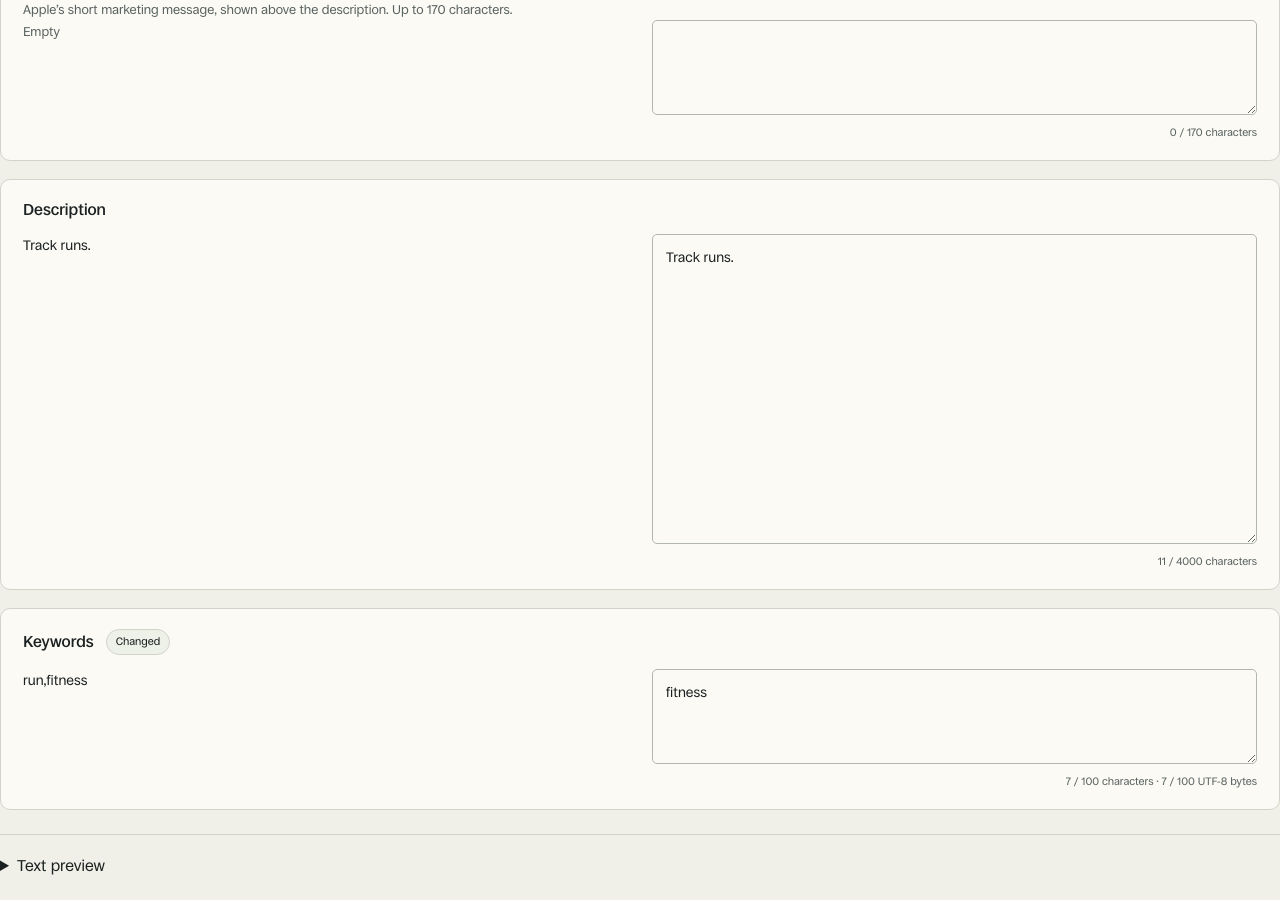
Scenario: keeps text and blocks navigation on a conflict until the user reloads
(page scrolled)
Replace the text in the text box named "Draft Keywords" with "my text": (954, 717) [652,669,1257,764]
Wait 700 ms
(page scrolled)
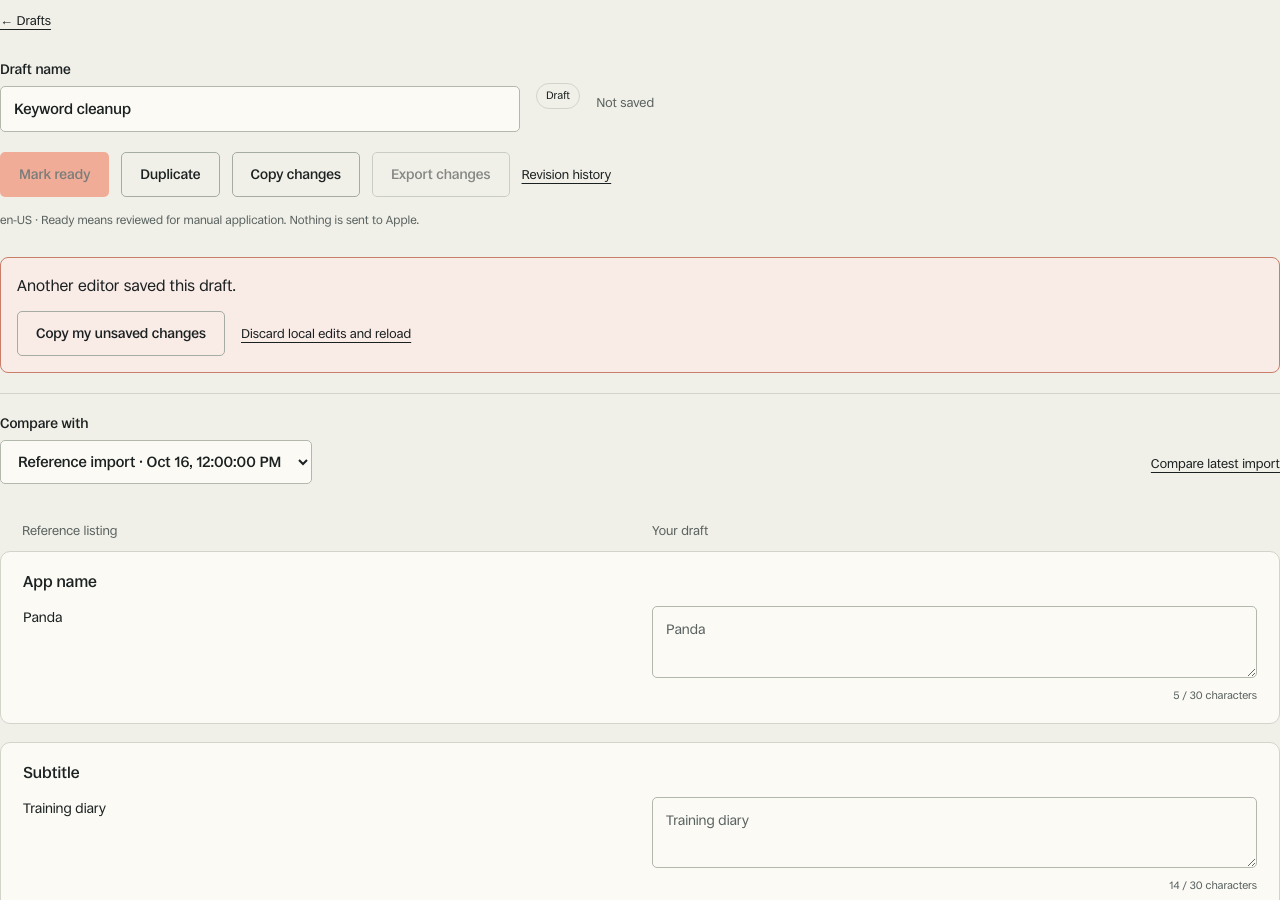
Check: the message that starts with "Another editor saved this draft." is shown, box [17,276,236,295]
Click the button "Discard local edits and reload": (326, 334) [241,314,411,354]
(page scrolled)
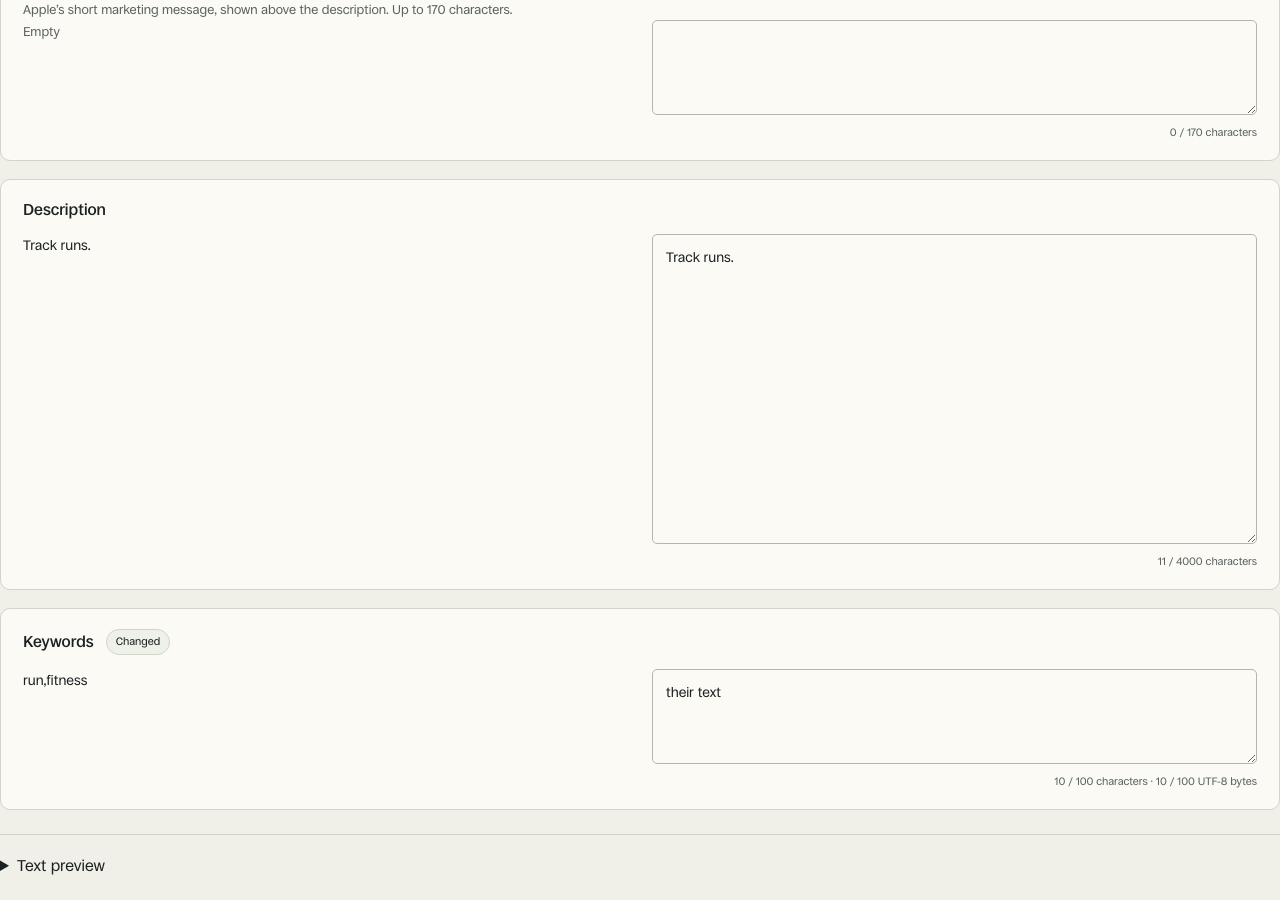
Check: the text box named "Draft Keywords" holds "their text", box [652,669,1257,764]
